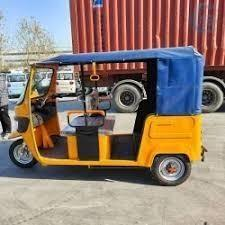keke: (7, 45, 206, 191)
